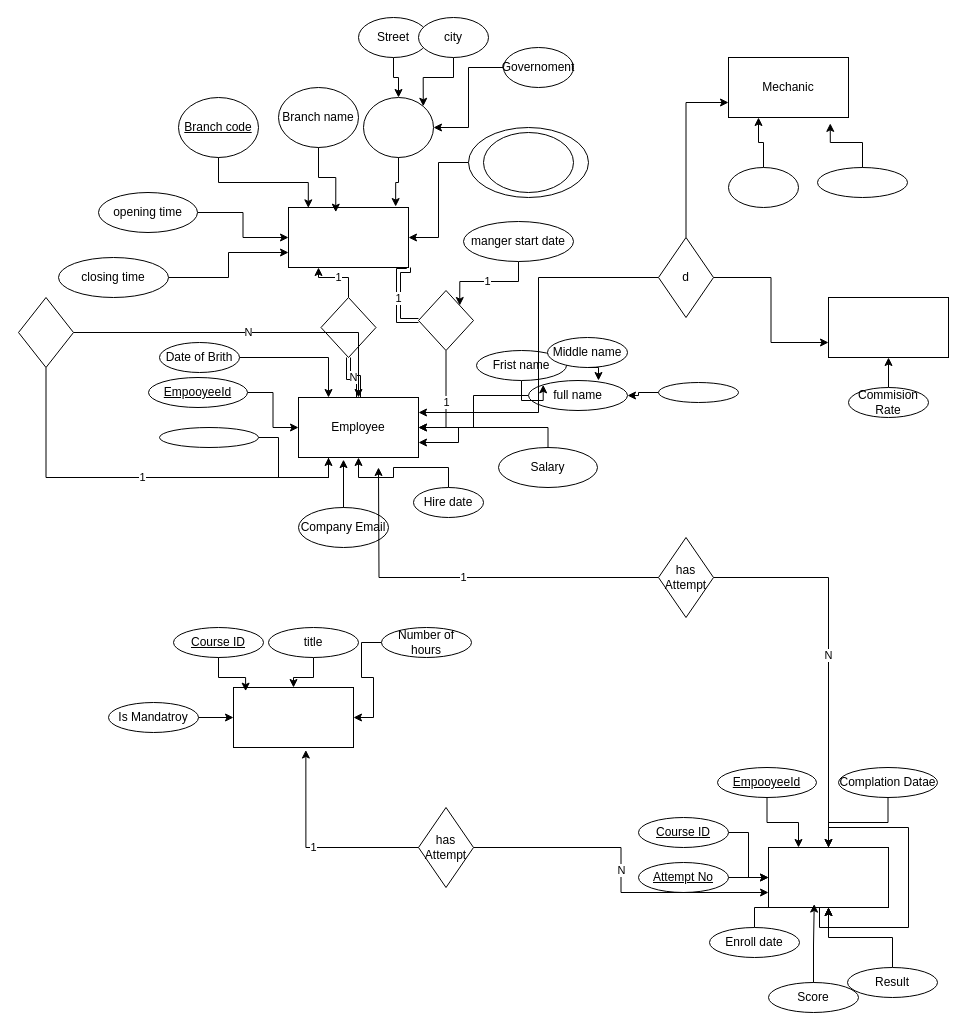
This 966x1030 diagram has some shape labels left out. Here are the shapes that lost their labels. From the top down, the box of each, then its label:
(362, 96, 434, 158): Address
(482, 132, 574, 192): Phone
(816, 166, 908, 198): CertificationLevel
(728, 166, 798, 208): Specilaization
(288, 206, 408, 268): Branch
(18, 296, 74, 368): ٍsupervises
(320, 296, 376, 358): Assign
(418, 290, 474, 350): ’Mange
(828, 296, 948, 358): Rental_Agent
(658, 382, 738, 402): Last name
(158, 426, 258, 448): National ID
(232, 686, 354, 748): Course
(768, 846, 888, 908): Tranning_Attempt
